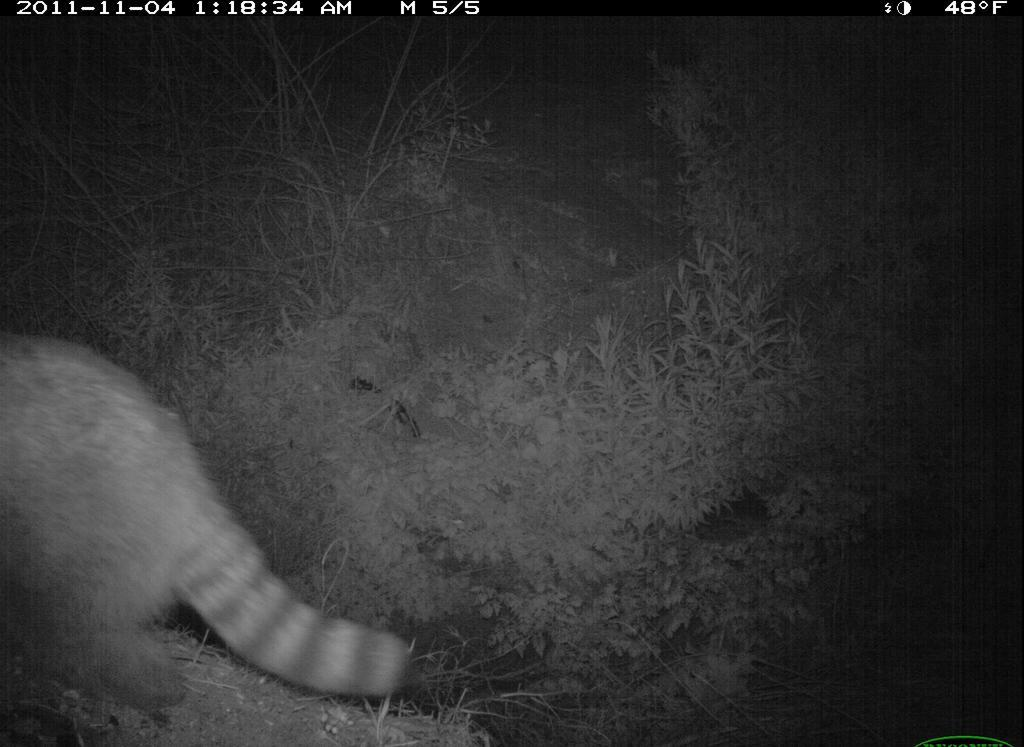raccoon: (1, 333, 429, 720)
